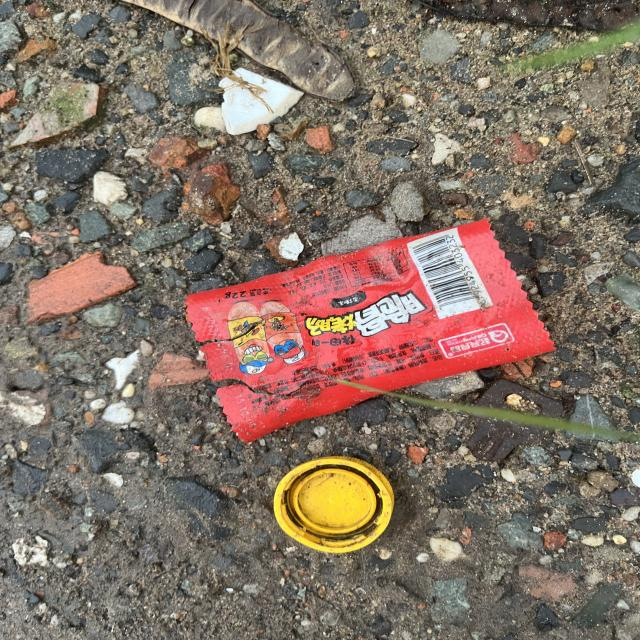lid: (274, 456, 395, 554)
packet: (184, 217, 556, 443)
